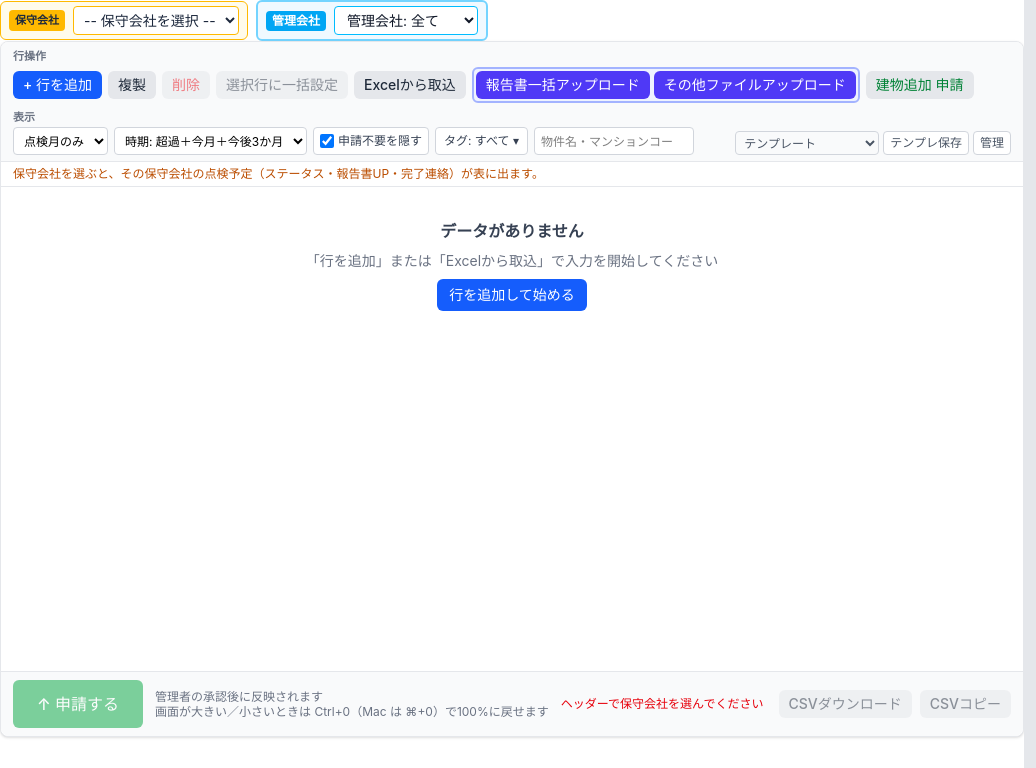
Test: BulkEntryPage (v1 js/bulk.js init / adminVendorSelect) › 申請に失敗したエラーのトーストは、次に申請できたときに消える
The image size is (1036, 768).
Select "B社" in the dropdown named "保守会社を選択" at (156, 20), box [73,6,239,35]
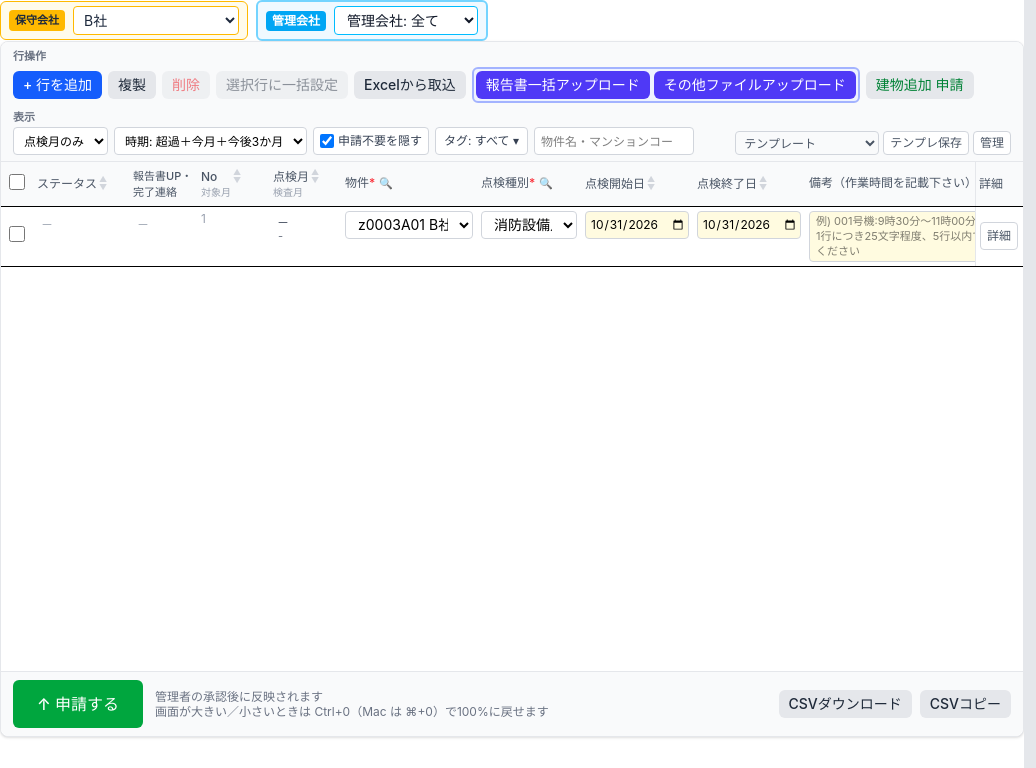
Click the button "↑ 申請する" at (78, 704), box [13,680,143,728]
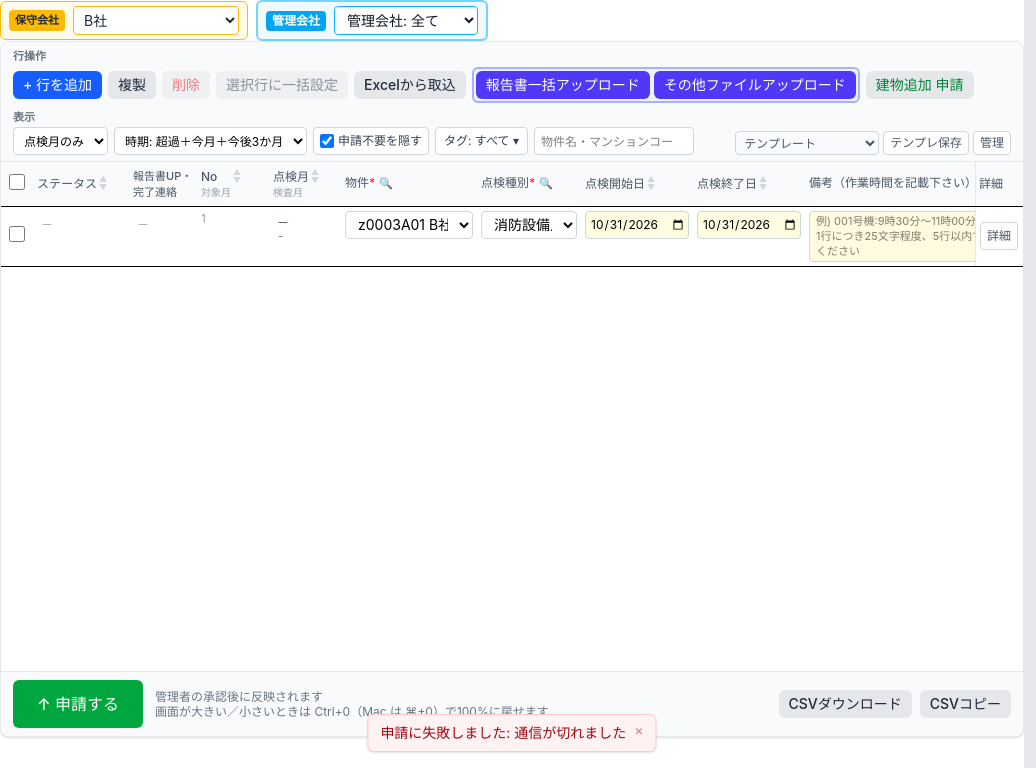
Expected: the text "申請に失敗しました: 通信が切れました" is shown, [380,723,626,743]
Click the button "↑ 申請する" at (78, 704), box [13,680,143,728]
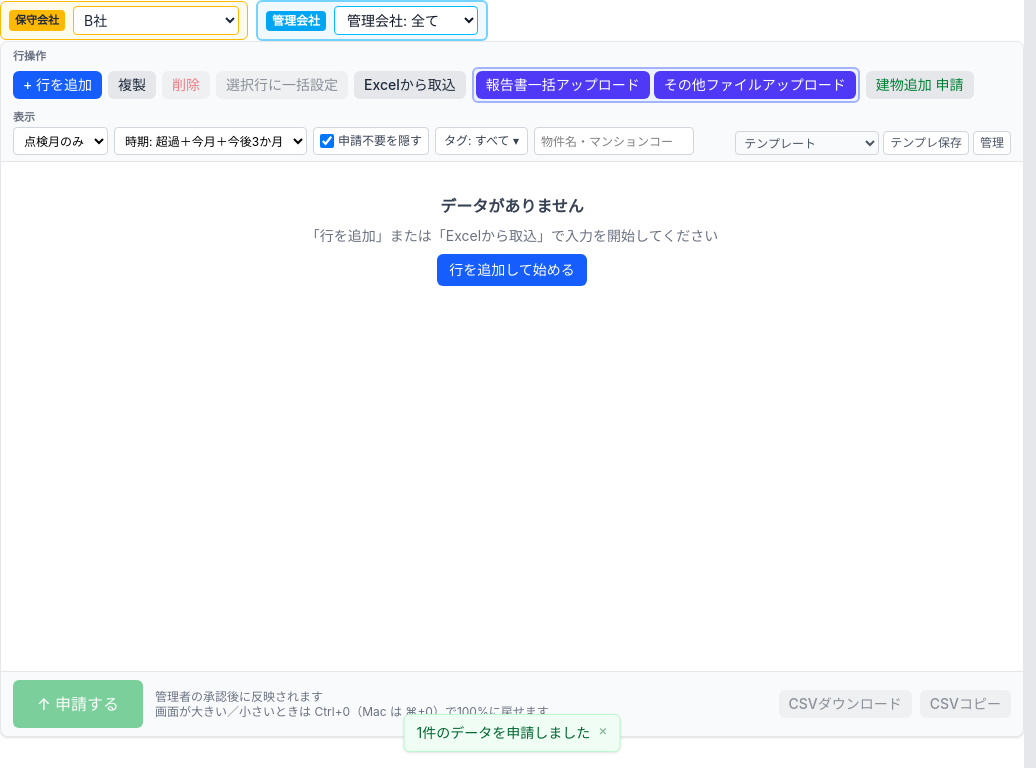
Expected: the text "申請に失敗しました: 通信が切れました" is gone
